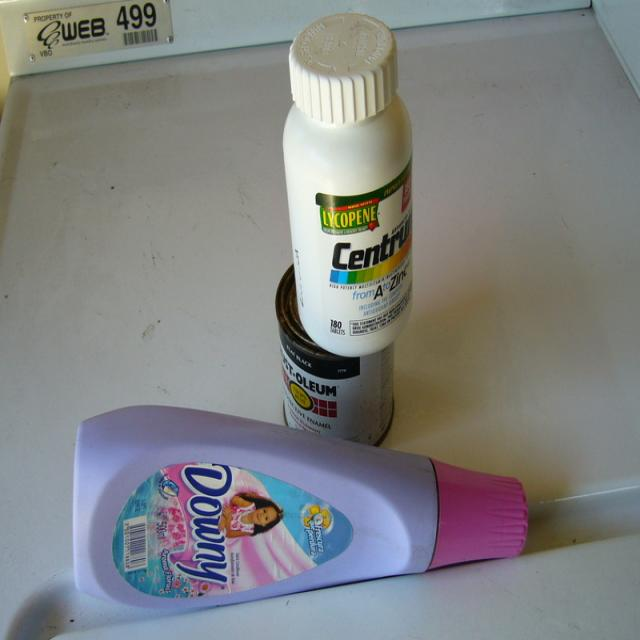container -bottle - jar: (74, 407, 527, 610), (284, 14, 412, 356), (276, 266, 394, 444)
